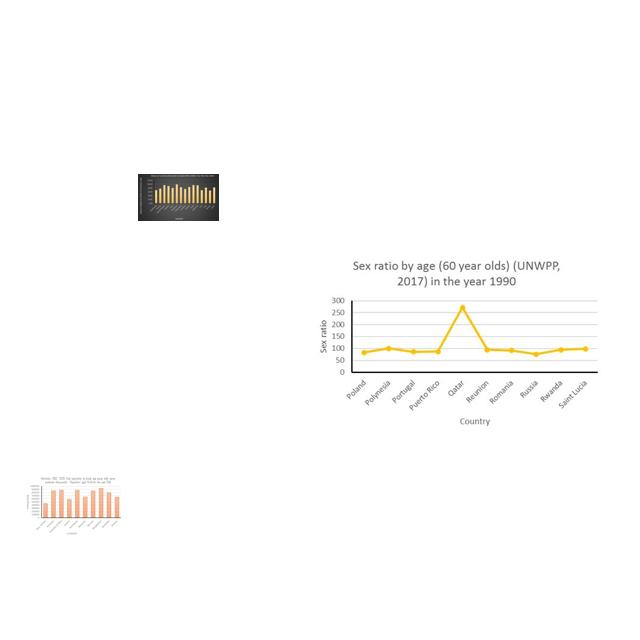Graph: (312, 255, 604, 436), (23, 475, 122, 535), (138, 174, 219, 221)
